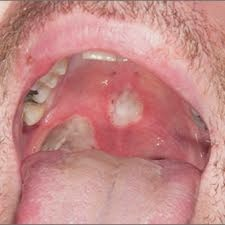Ulcer: (37, 112, 96, 151), (110, 78, 147, 133)
